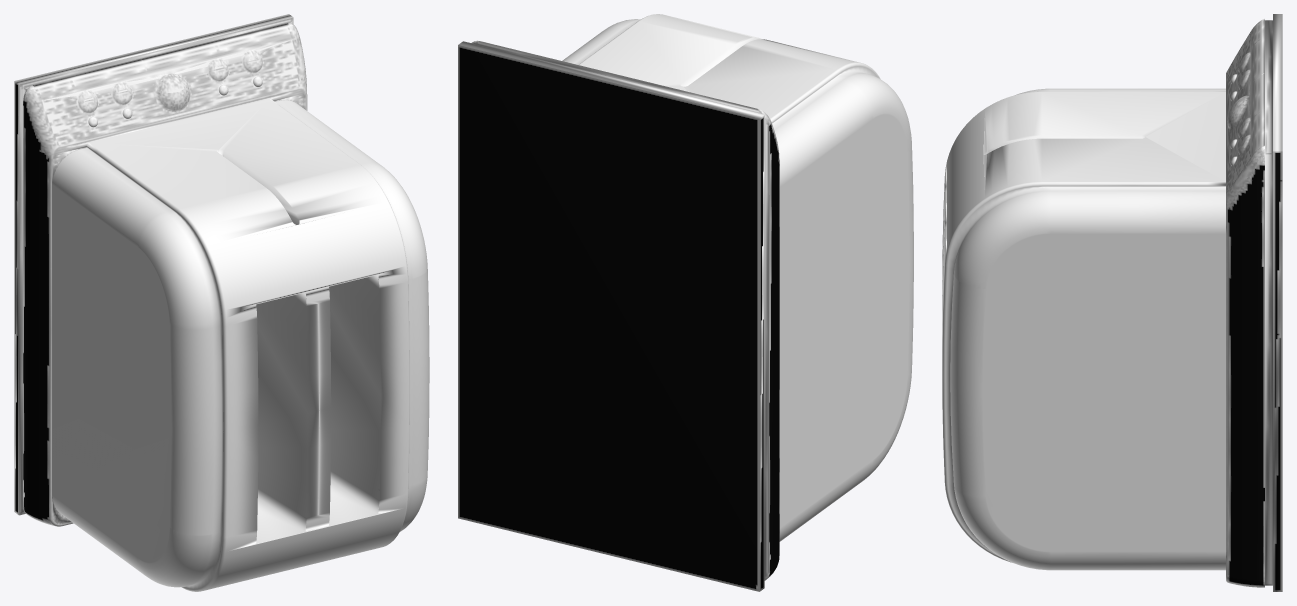
The model's file is toaster.dae.
The picture shows the model from 3 angles, left to right: view 1: azimuth 30°, elevation 25°; view 2: azimuth 150°, elevation 25°; view 3: azimuth 270°, elevation 25°; orthographic projection. The views are drawn at different scales.
Parts seen in each view (by area): view 1: transform1; view 2: transform1; view 3: transform1.
Part boxes in pixels (x1,y1,x2,y2): transform1: [14, 14, 429, 591]; transform1: [458, 14, 913, 591]; transform1: [942, 14, 1282, 591].
Size of the model in its own units: 0.2 by 0.3 by 0.21.
Materials: 1 (1 with a texture image).
